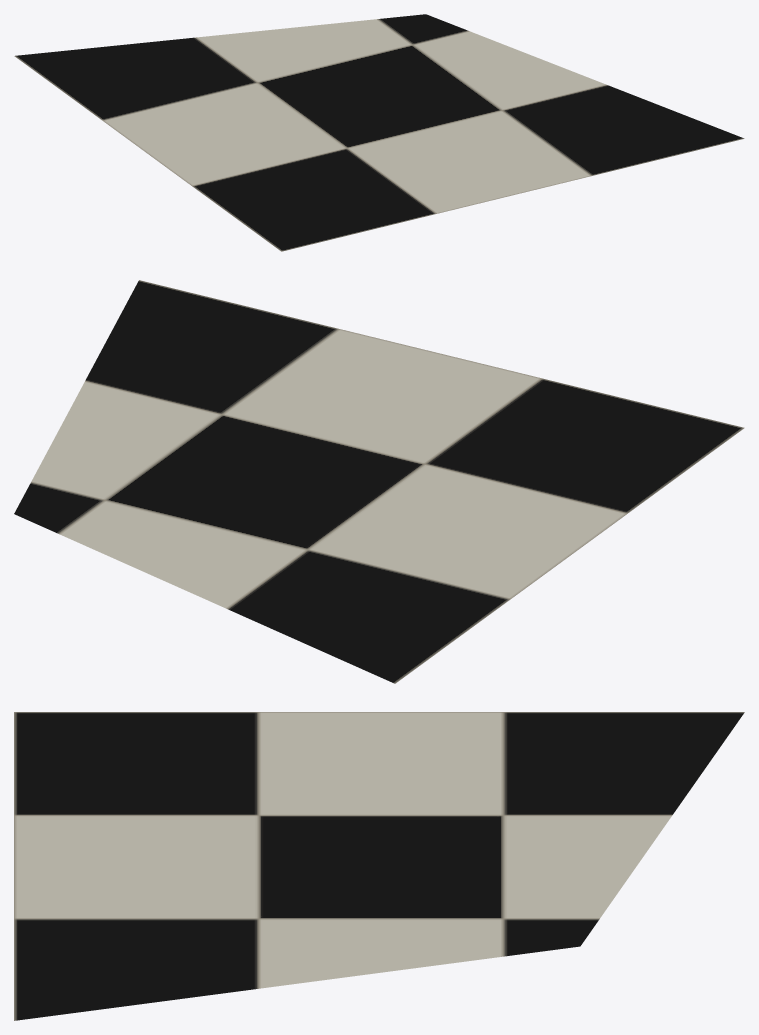
The model's file is Floor_Corner.fbx.
The picture shows the model from 3 angles, top to bottom: view 1: azimuth 30°, elevation 25°; view 2: azimuth 150°, elevation 25°; view 3: azimuth 270°, elevation 25°; orthographic projection. The views are drawn at different scales.
Visible parts, largest first — view 1: Floor_Corner; view 2: Floor_Corner; view 3: Floor_Corner.
Boxes of the visible parts, bbox=[...] form: Floor_Corner: bbox=[14, 14, 744, 251]; Floor_Corner: bbox=[14, 280, 744, 683]; Floor_Corner: bbox=[14, 712, 744, 1020].
Size of the model in its own units: 100 by 4.37e-06 by 100.
